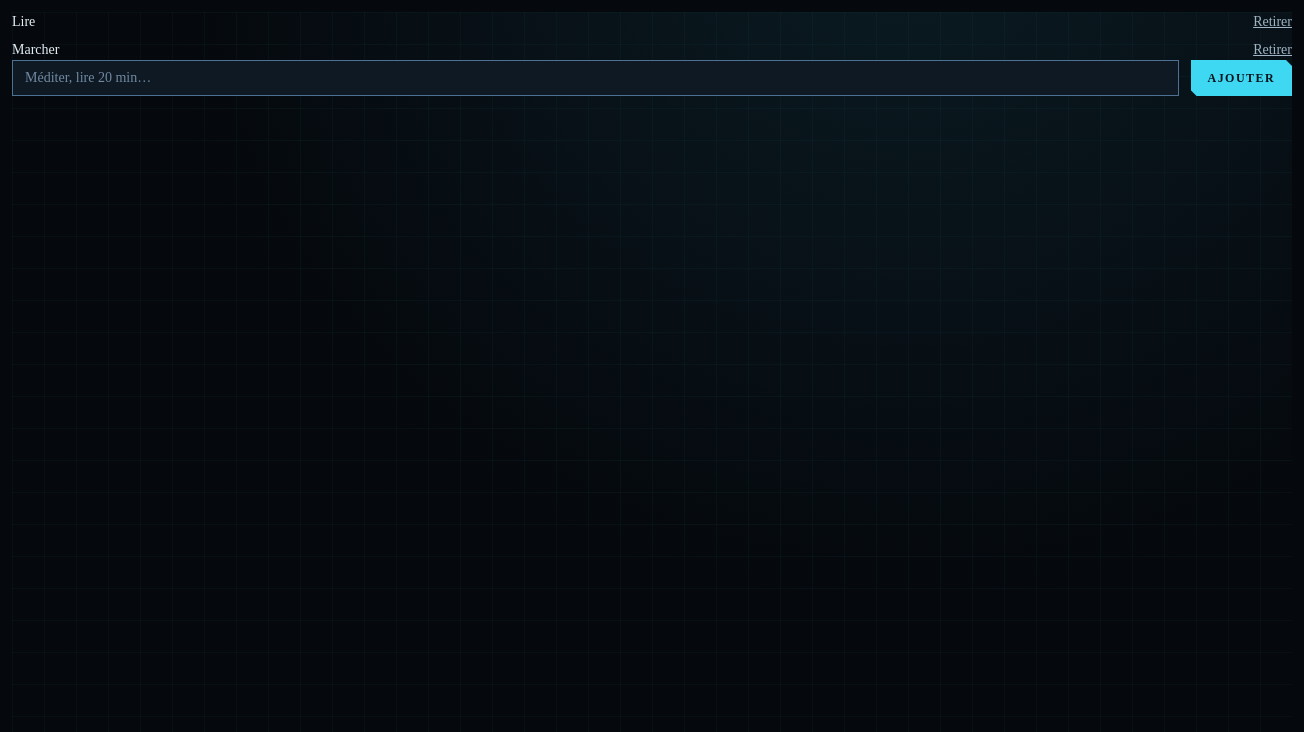
HabitsForms › n’affiche que le dernier message : un retrait après un ajout remplace « ajoutée »
The image size is (1304, 732).
Step 1. Type "Lire" into the field named "Nouvelle habitude" → (595, 78), box [12,60,1179,96]
Then press Enter
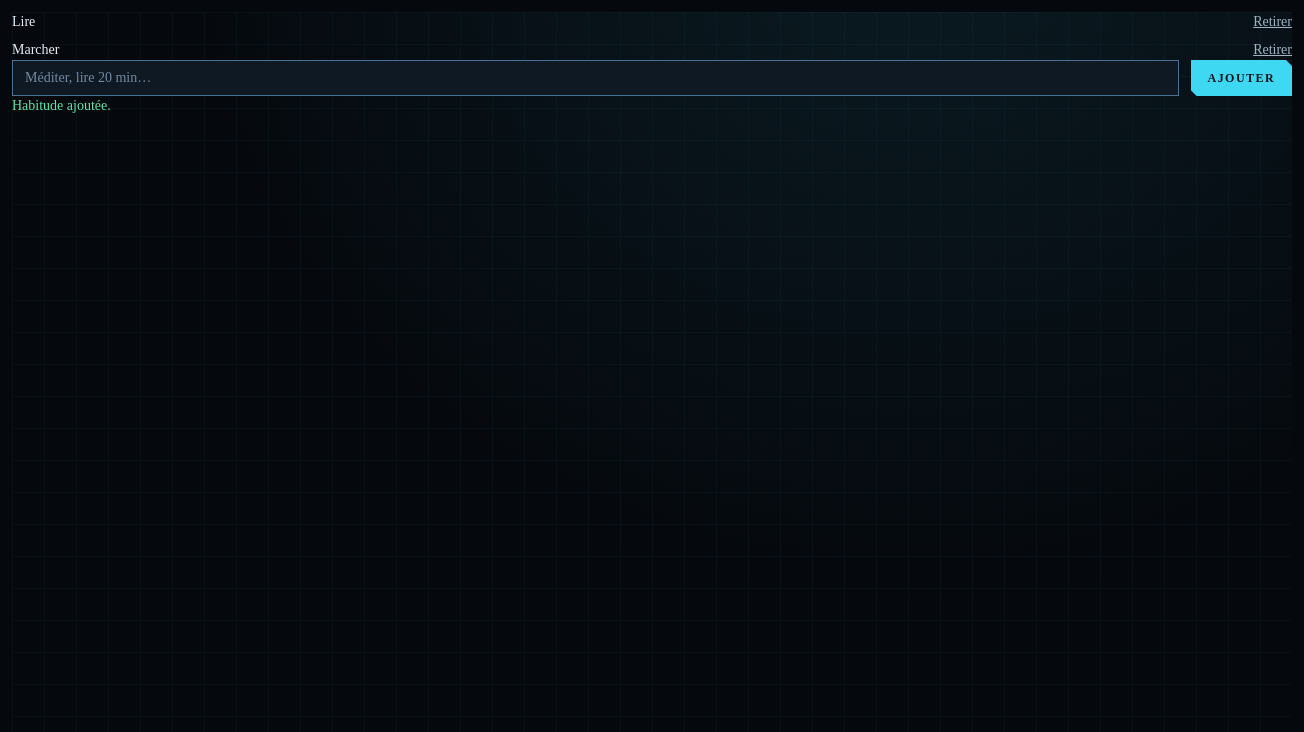
expect the text "Habitude ajoutée." is shown: met, box [12,98,111,113]
Step 2. Click the button "Retirer" in the row of "Lire" → (1273, 22), box [1253,12,1292,32]
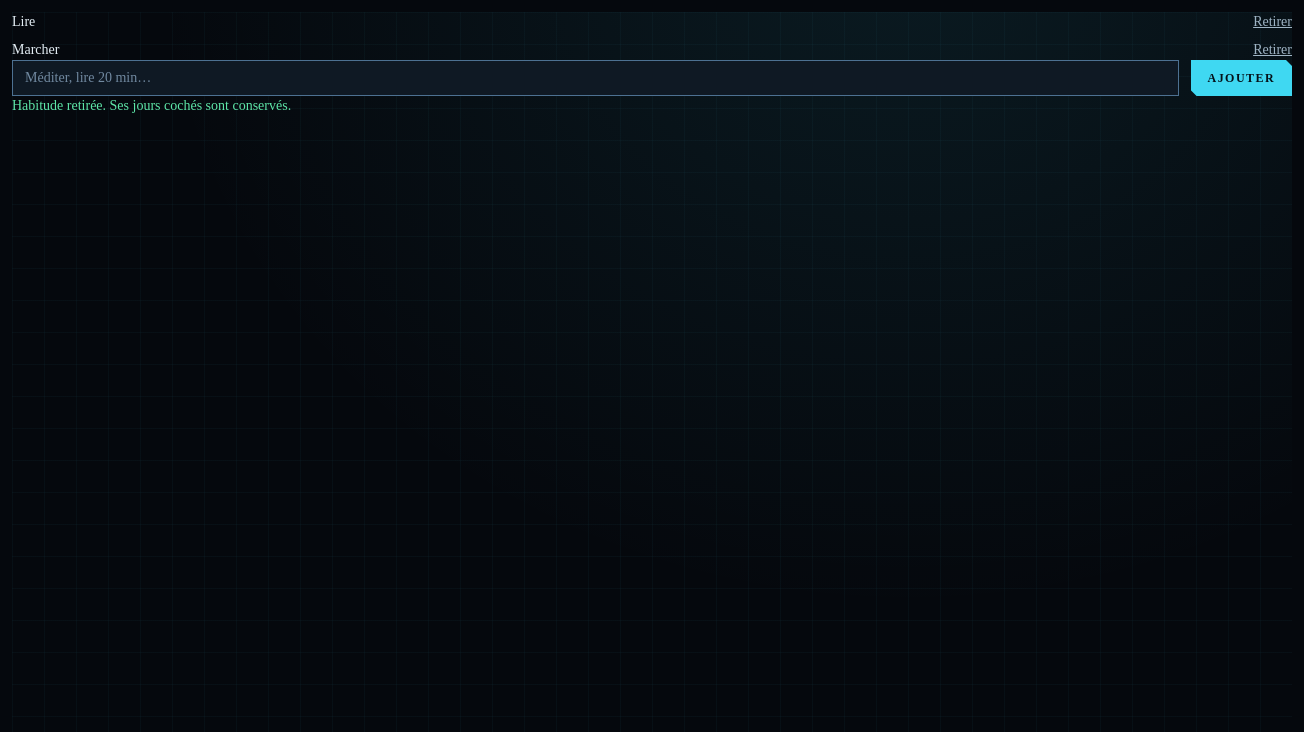
expect the number of messages is 1: met, box [12,98,291,113]
expect the text "Habitude ajoutée." is gone: met
